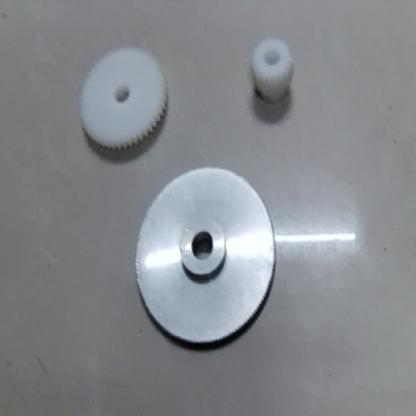FOD: (131, 164, 282, 344), (74, 42, 176, 161), (249, 36, 301, 110)
